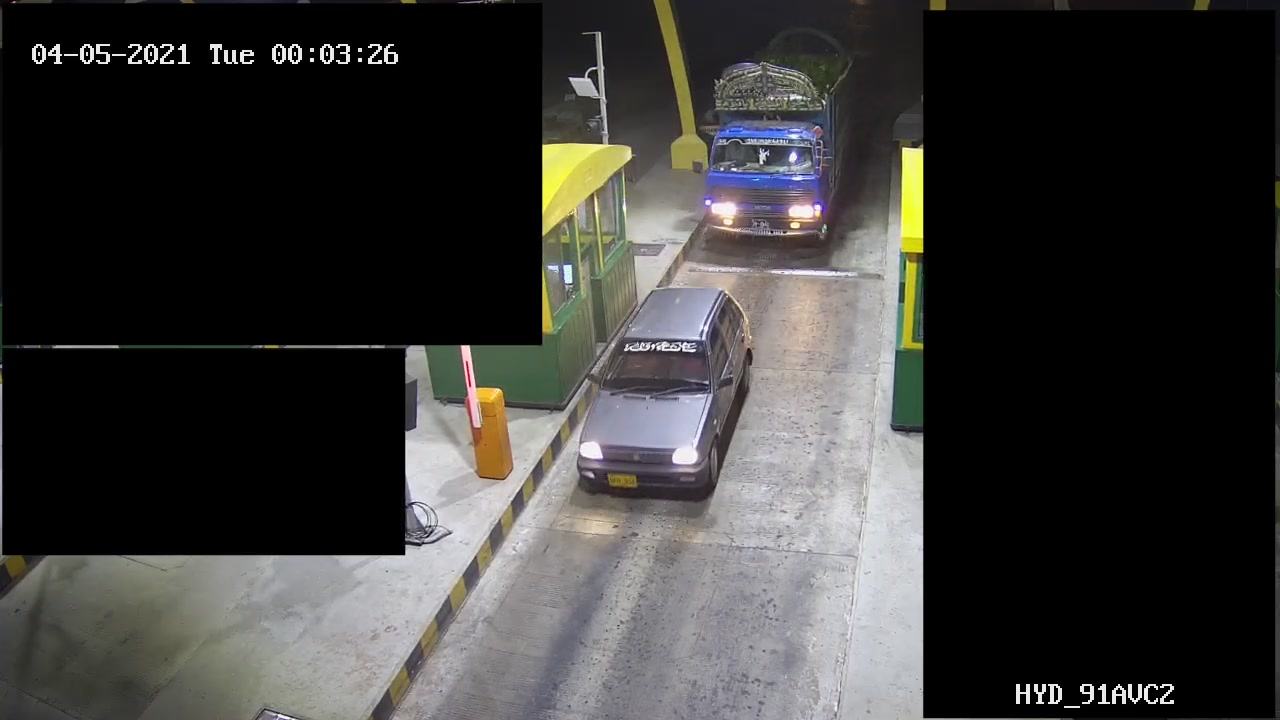F1: (566, 280, 761, 513)
F5: (693, 22, 858, 262)
